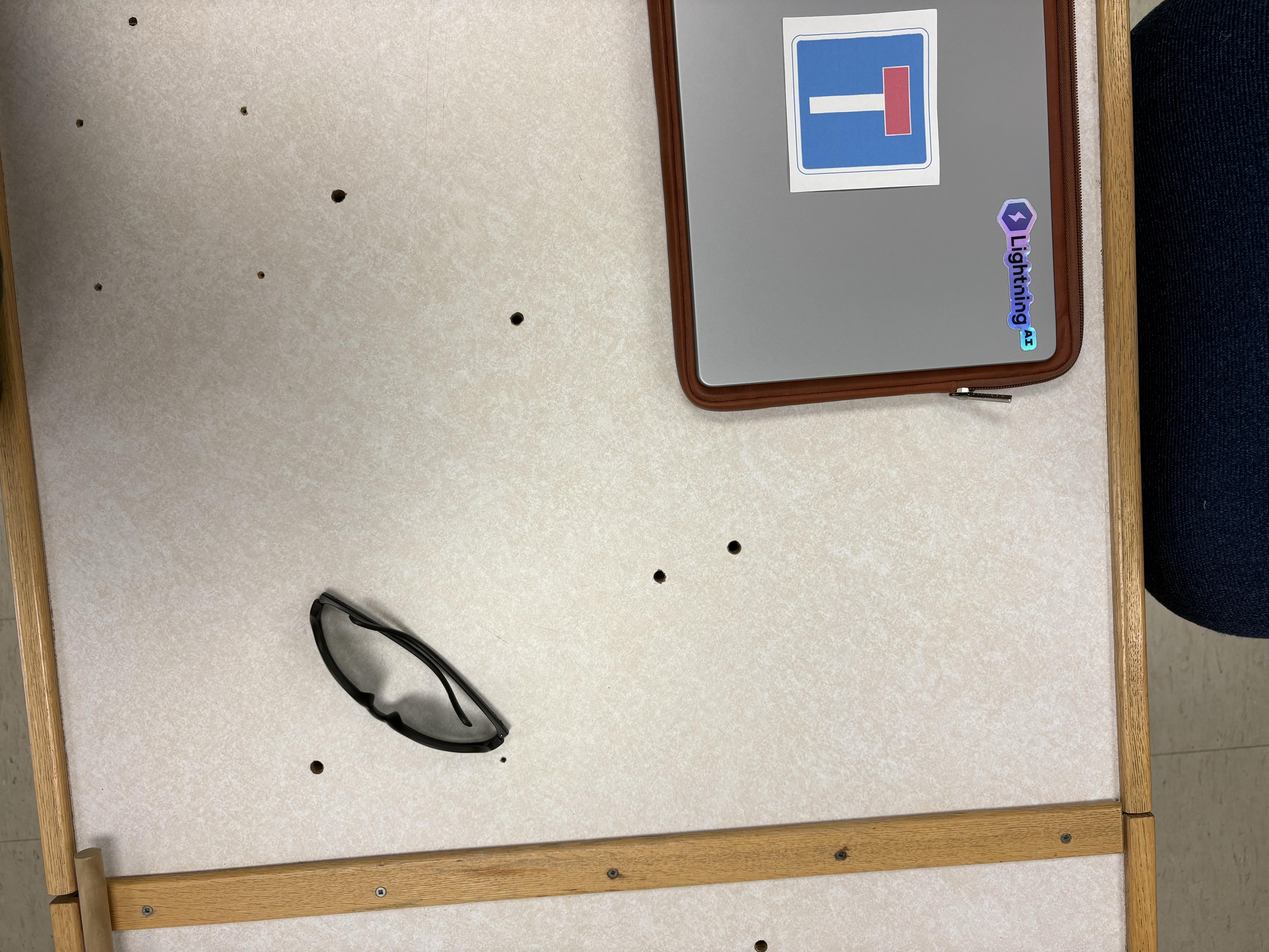Dead End: (782, 5, 944, 192)
